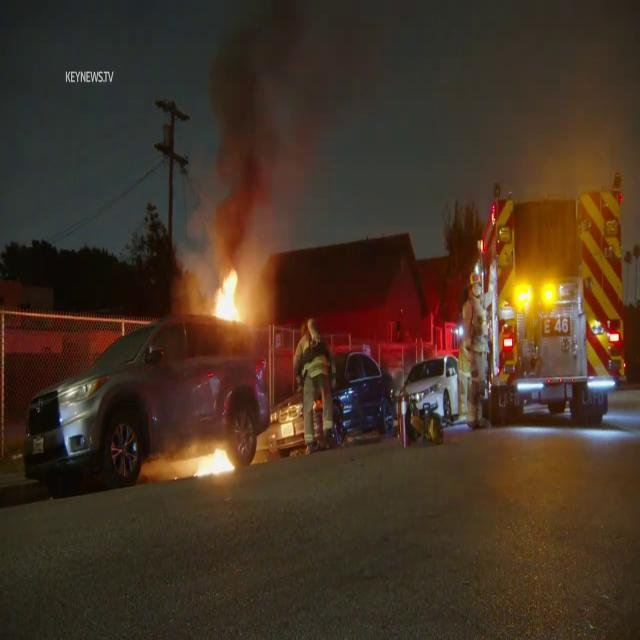Fire: (208, 264, 250, 332), (191, 439, 239, 482)
Smoke: (182, 1, 333, 257)
